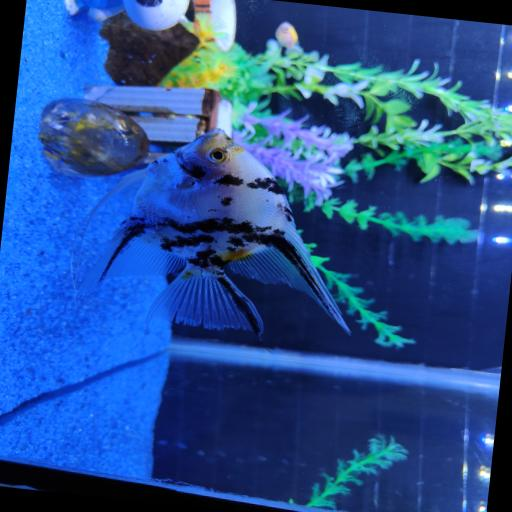Fish: (78, 128, 348, 335), (274, 21, 297, 48)
